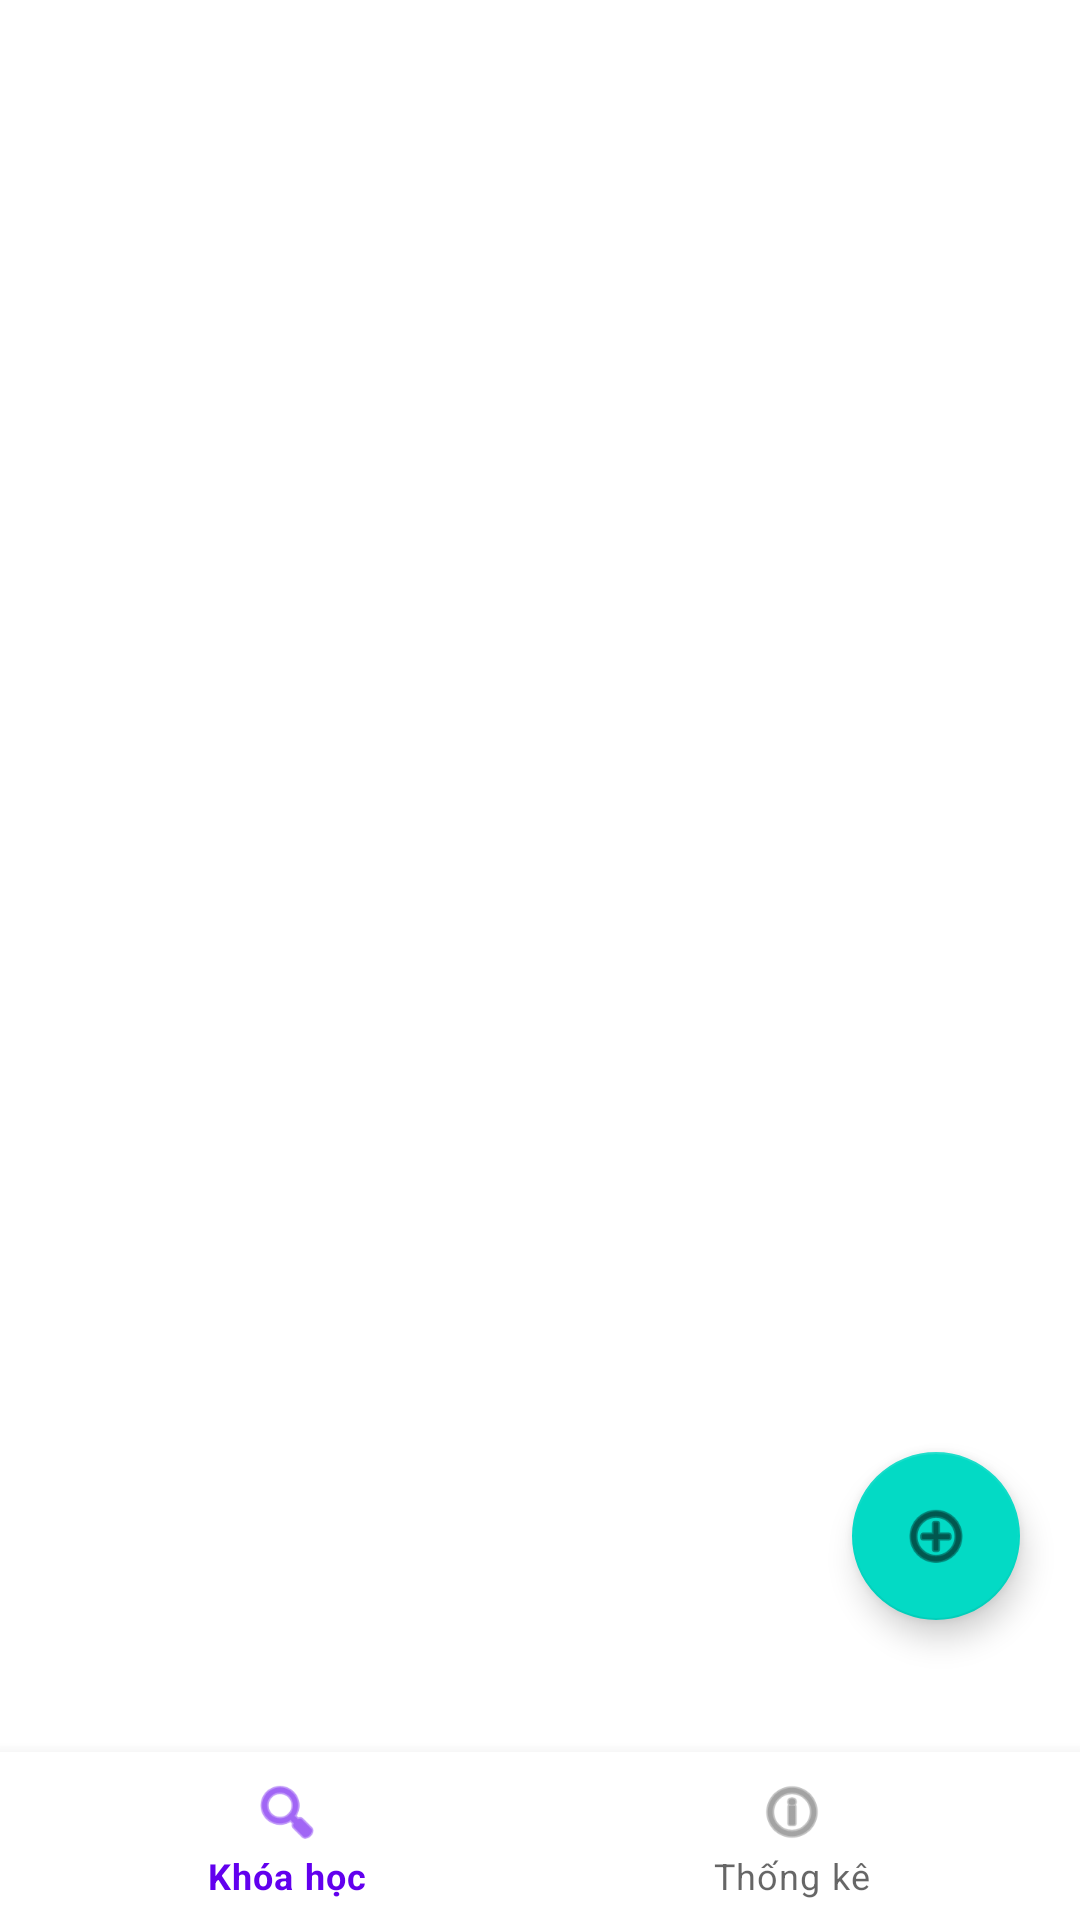

Icons on this 1080w x 1920h Android screen, each with its box as (x1, y1, x2, y2):
add: (852, 1452, 1020, 1620)
